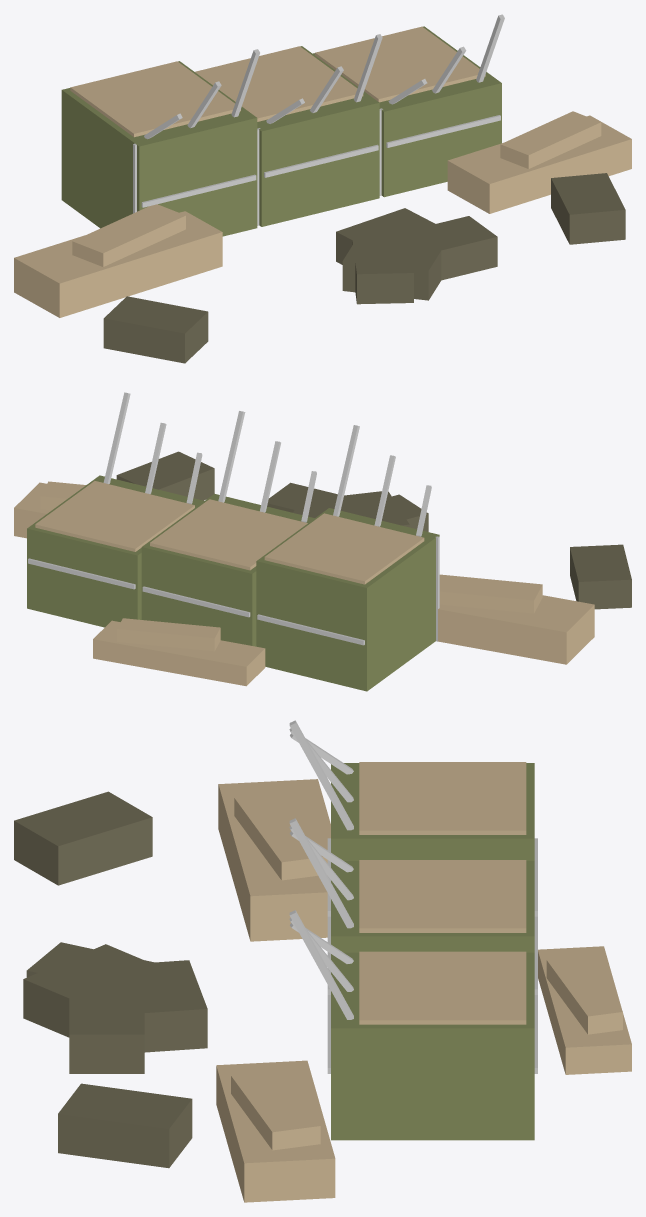
File: SM_HescoCorto3_v3_RemateSacos_e2_MuyDanado_LOD0.fbx
3 views of the same model, one above another, from view 1: azimuth 30°, elevation 25°; view 2: azimuth 150°, elevation 25°; view 3: azimuth 270°, elevation 25° (orthographic). The views are drawn at different scales.
Visible parts, largest first — view 1: SM_hesco_piezas_v94_LOD0; view 2: SM_hesco_piezas_v94_LOD0; view 3: SM_hesco_piezas_v94_LOD0.
Part boxes in pixels (bbox=[...]): SM_hesco_piezas_v94_LOD0: bbox=[14, 14, 631, 363]; SM_hesco_piezas_v94_LOD0: bbox=[14, 392, 631, 691]; SM_hesco_piezas_v94_LOD0: bbox=[14, 720, 631, 1202].
Size of the model in its own units: 5.36 by 1.67 by 3.7.
